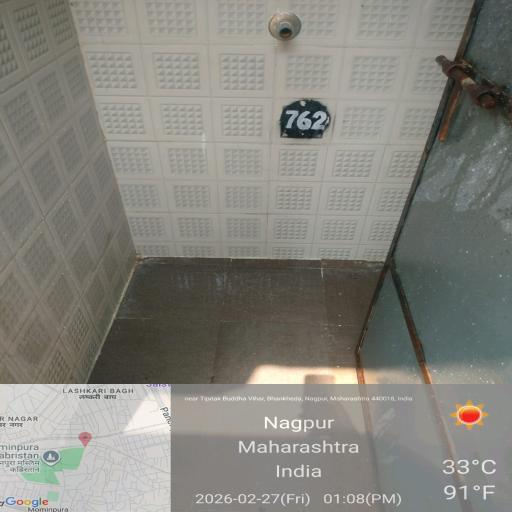clean_floor: (0, 0, 432, 243), (11, 250, 346, 370)
